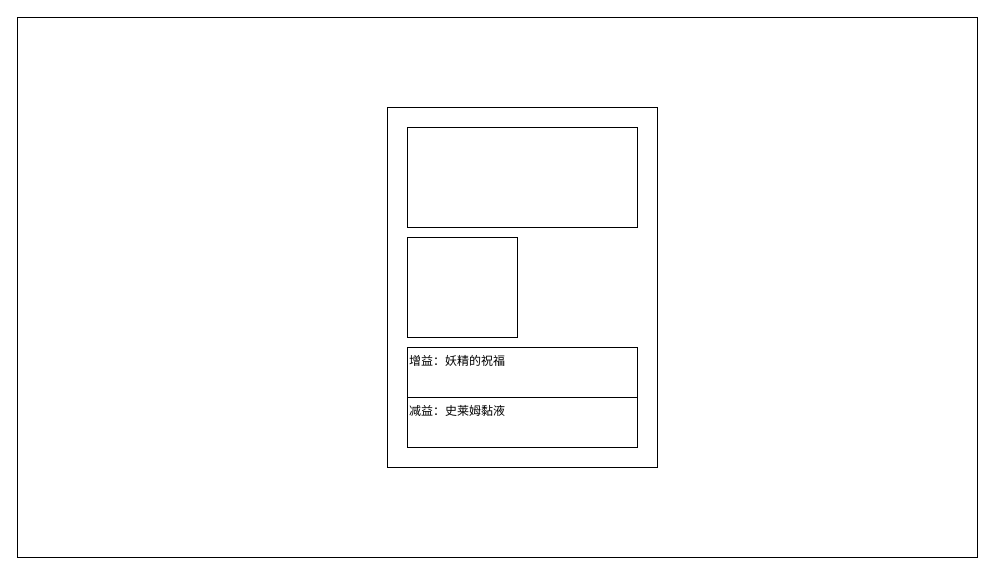
The diagram is 995 pixels wide and 575 high, and some of its shapes have lost their labels. The shapes that lost their labels are listed below. From the top down, each one's centre as x and y in pixels, then its label:
(522,177): 名字：lance 称号：妖精的信使 职业等级：56（法师6、战士21、锻造师3，草药师1，附魔师4，盗贼9，厨师1，占卜师11）
(462,287): 血量：0/0 蓝量：0/0 攻击力：1 防御力：1
